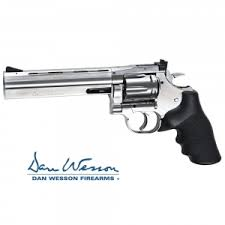Arma Real: (1, 59, 222, 165)
